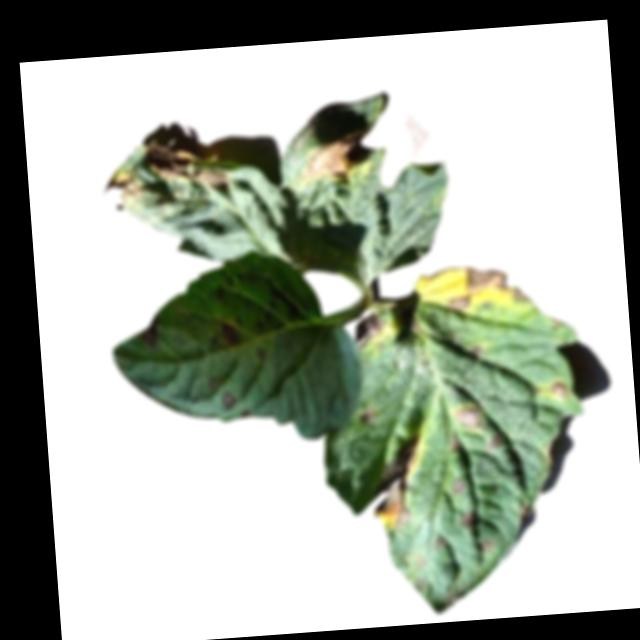Early_blight: (444, 260, 534, 318), (142, 136, 229, 191), (298, 133, 367, 186), (100, 166, 147, 211), (351, 309, 390, 348), (456, 405, 485, 428), (547, 378, 573, 397), (455, 507, 479, 527), (473, 536, 500, 553), (217, 386, 235, 409), (432, 533, 449, 551), (468, 343, 487, 358), (488, 431, 503, 447), (449, 432, 461, 452), (452, 475, 465, 492), (360, 407, 372, 422)
